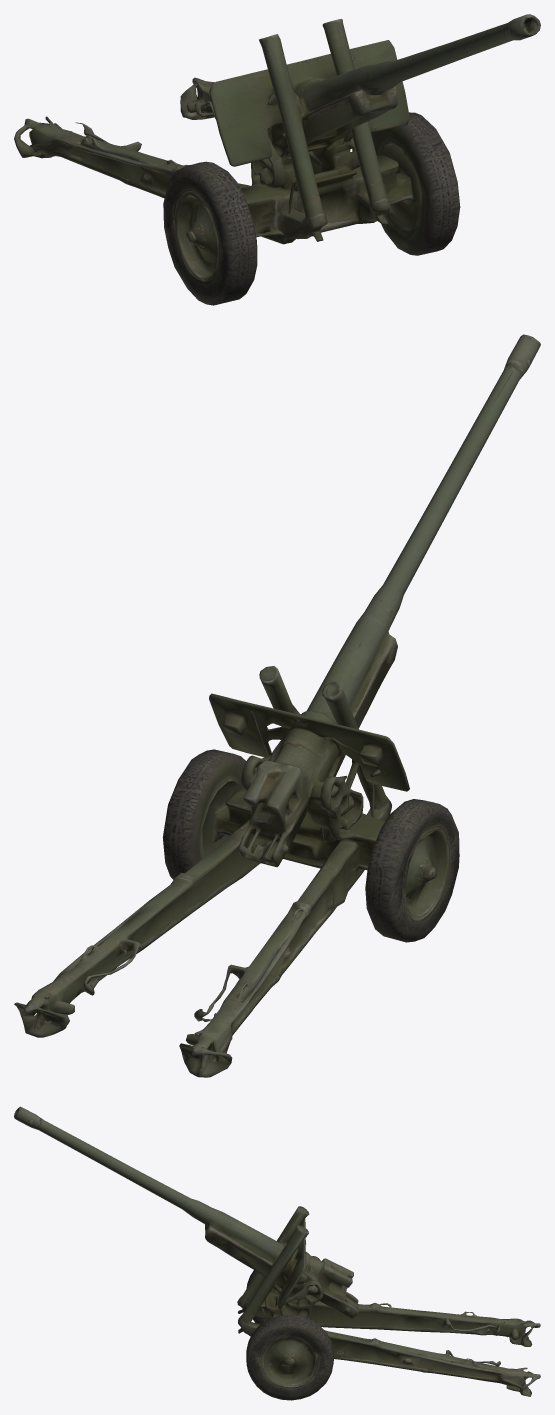
3 renders of one model, top to bottom at view 1: azimuth 30°, elevation 25°; view 2: azimuth 150°, elevation 25°; view 3: azimuth 270°, elevation 25°, orthographic. The views are drawn at different scales.
Parts seen in each view (by area): view 1: tripo_node_3792fbd3; view 2: tripo_node_3792fbd3; view 3: tripo_node_3792fbd3.
Boxes of the visible parts, x1,y1,x2,y2 form: tripo_node_3792fbd3: (14, 14, 540, 305); tripo_node_3792fbd3: (14, 334, 540, 1077); tripo_node_3792fbd3: (14, 1106, 540, 1400).
Size of the model in its own units: 2.35 by 3.82 by 6.96.
1 material, 1 textured.
